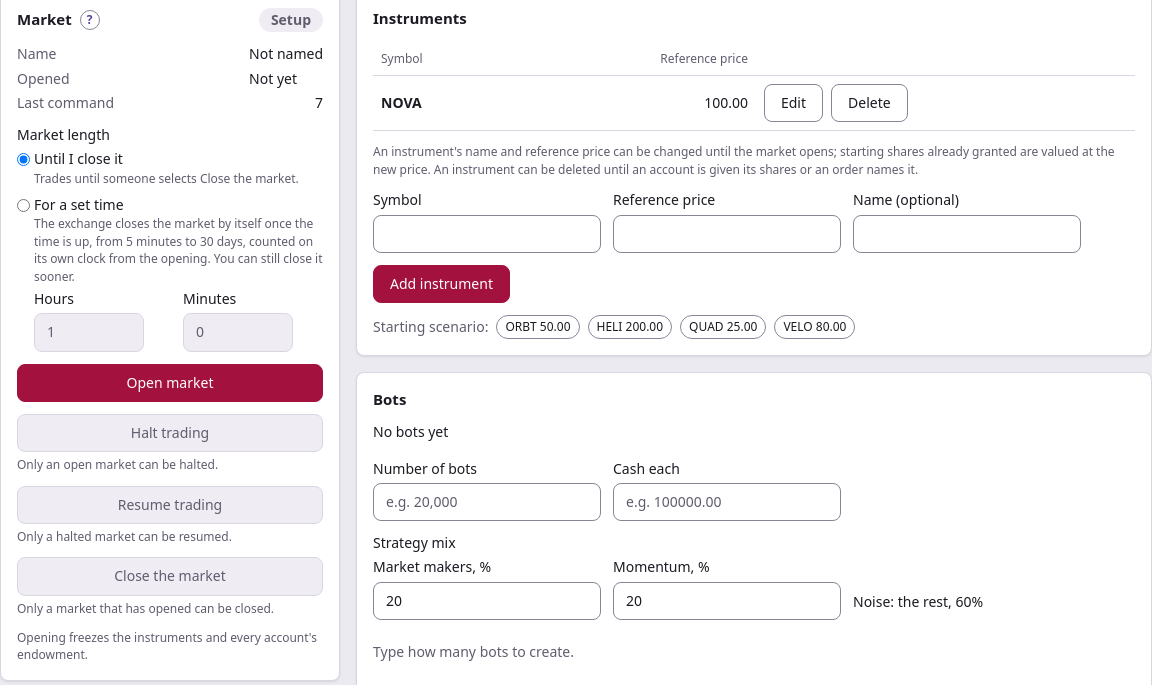
the operator screen › opens the market with a key and shows the committed state
An edit left open when the market opens goes with the rest of the setup controls.
Click the button with aria-label "Edit NOVA". click: (794, 103)
box: [764,84,823,122]
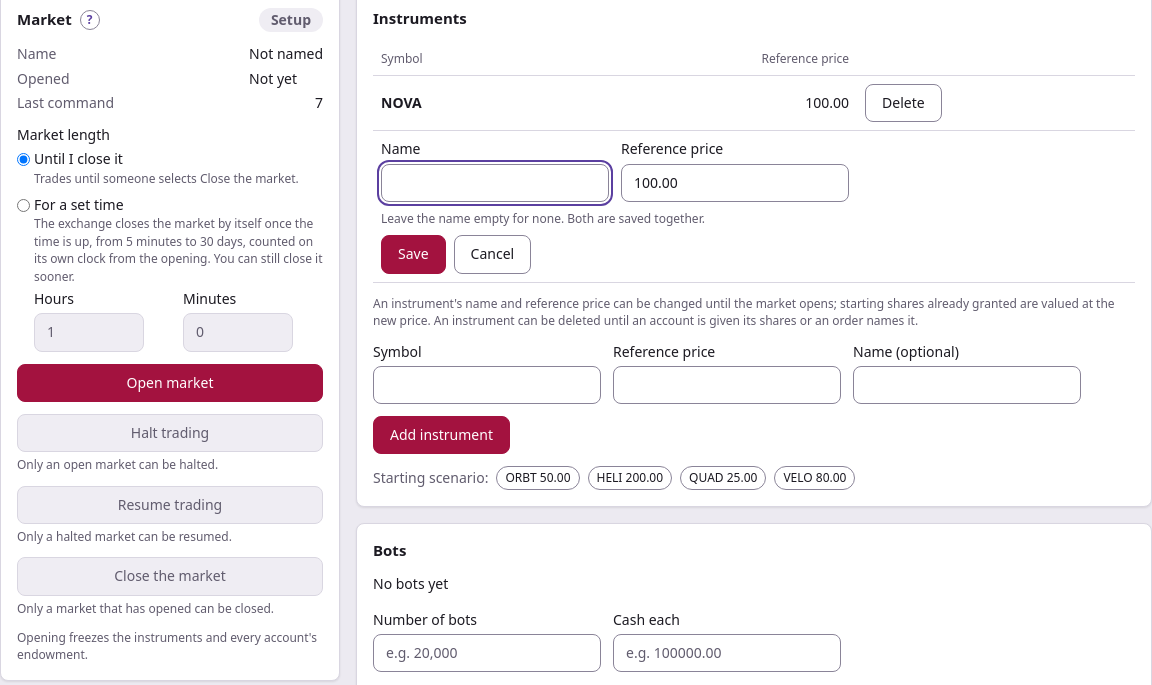
Result: the form named "Edit NOVA" is shown at [381,139,849,274]
Click the button "Open market". click: (170, 383)
box: [17,364,323,402]
(page scrolled)
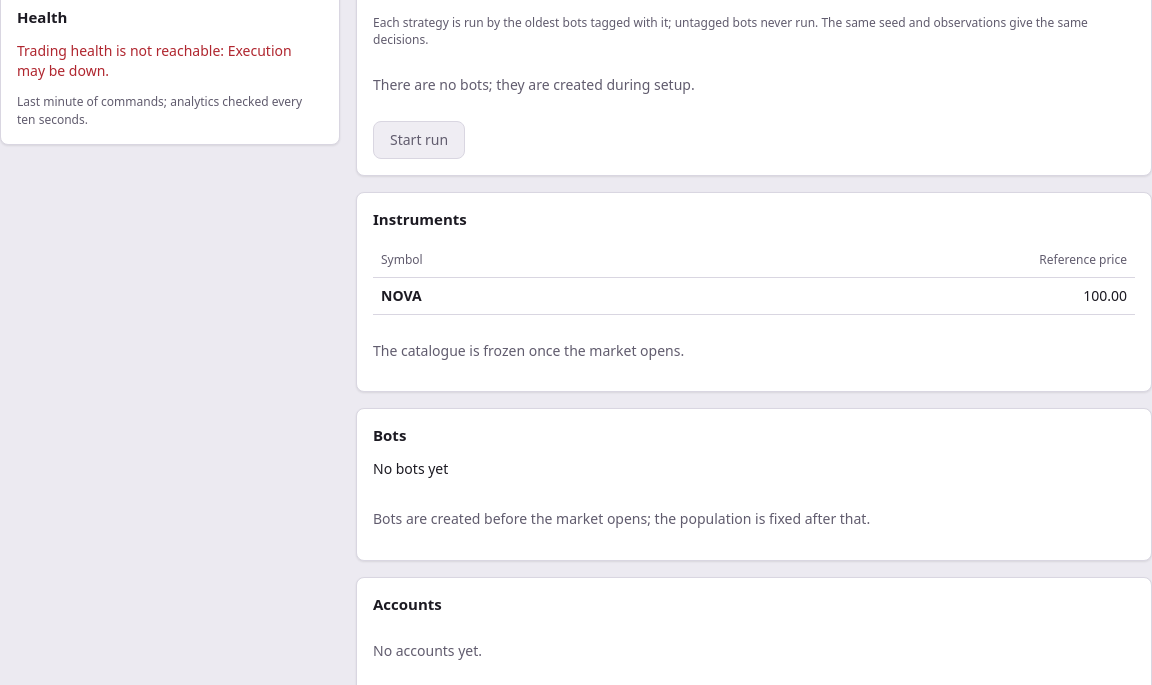
Expected: the column heading "Actions" is not shown
Result: the text "The catalogue is frozen once the market opens." is shown at [373,341,684,360]
